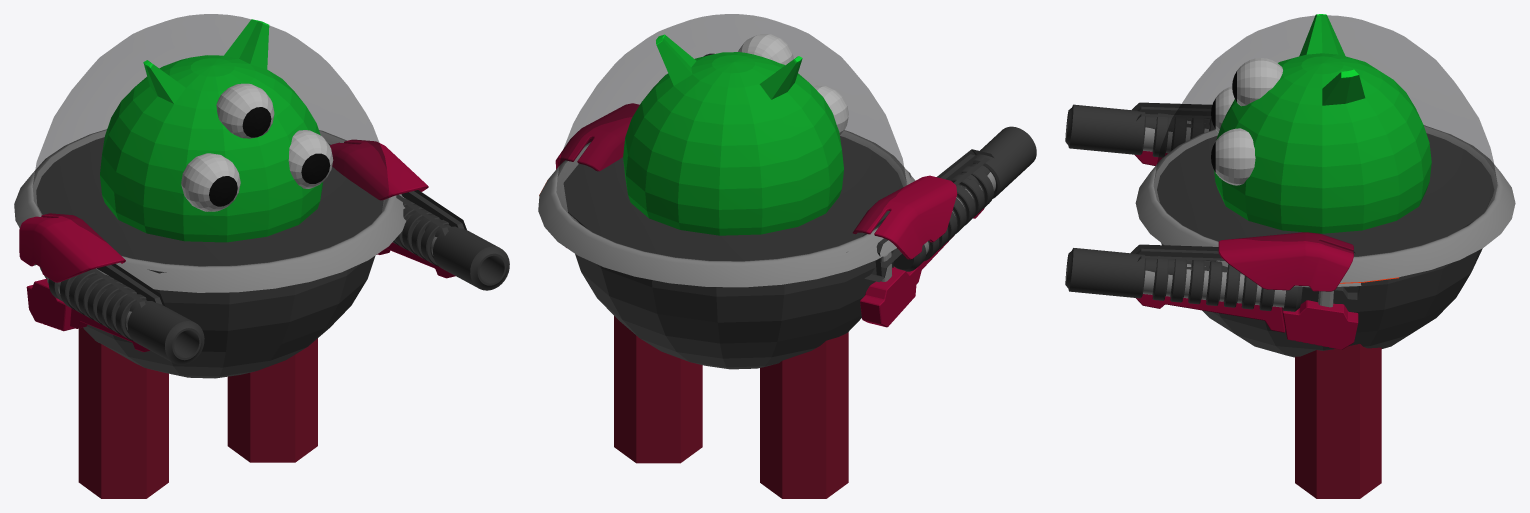
Rendered from enemy1.fbx.
3 views of the same model, side by side, from view 1: azimuth 30°, elevation 25°; view 2: azimuth 150°, elevation 25°; view 3: azimuth 270°, elevation 25° (orthographic). The views are drawn at different scales.
Visible parts, largest first — view 1: Sphere.001, Sphere.008, kol.001; view 2: Sphere.001, Sphere.008, kol.001; view 3: Sphere.001, Sphere.008, kol.001.
Boxes of the visible parts, x1,y1,x2,y2 form: Sphere.001: [14, 14, 405, 498]; Sphere.008: [100, 19, 333, 242]; kol.001: [19, 139, 509, 364]; Sphere.001: [538, 14, 915, 498]; Sphere.008: [623, 34, 848, 235]; kol.001: [555, 53, 1036, 327]; Sphere.001: [1135, 15, 1515, 498]; Sphere.008: [1211, 14, 1431, 233]; kol.001: [1065, 102, 1360, 349].
Size of the model in its own units: 354 by 410 by 396.
